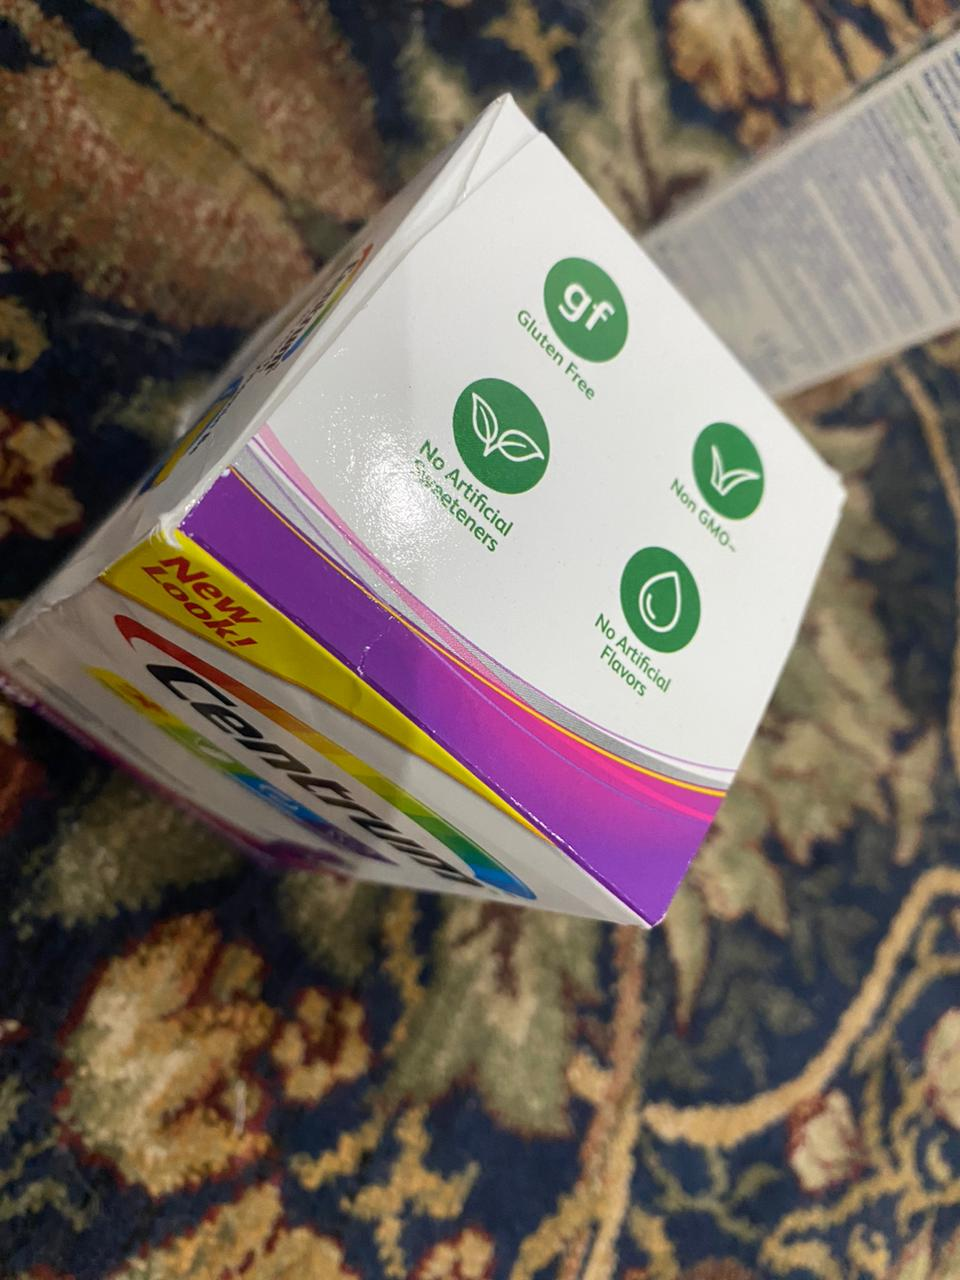Centrum: (4, 92, 847, 937)
Physiomer: (624, 12, 960, 404)
